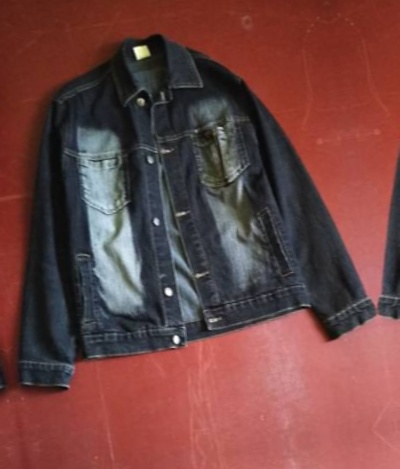Blazer: (0, 0, 379, 417), (331, 0, 400, 358), (0, 56, 4, 469)
